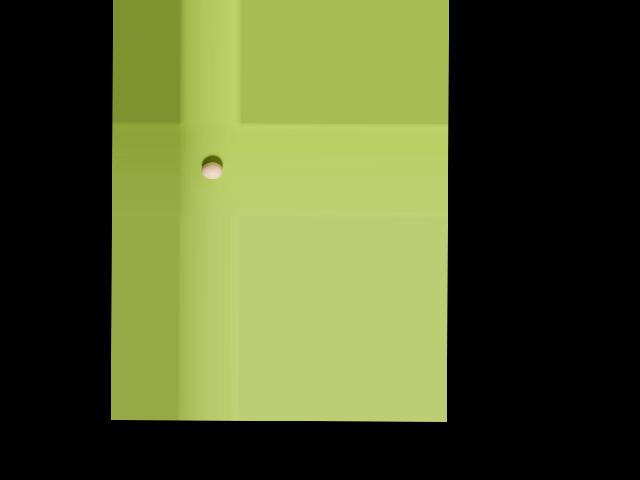egg: (200, 162, 222, 178)
